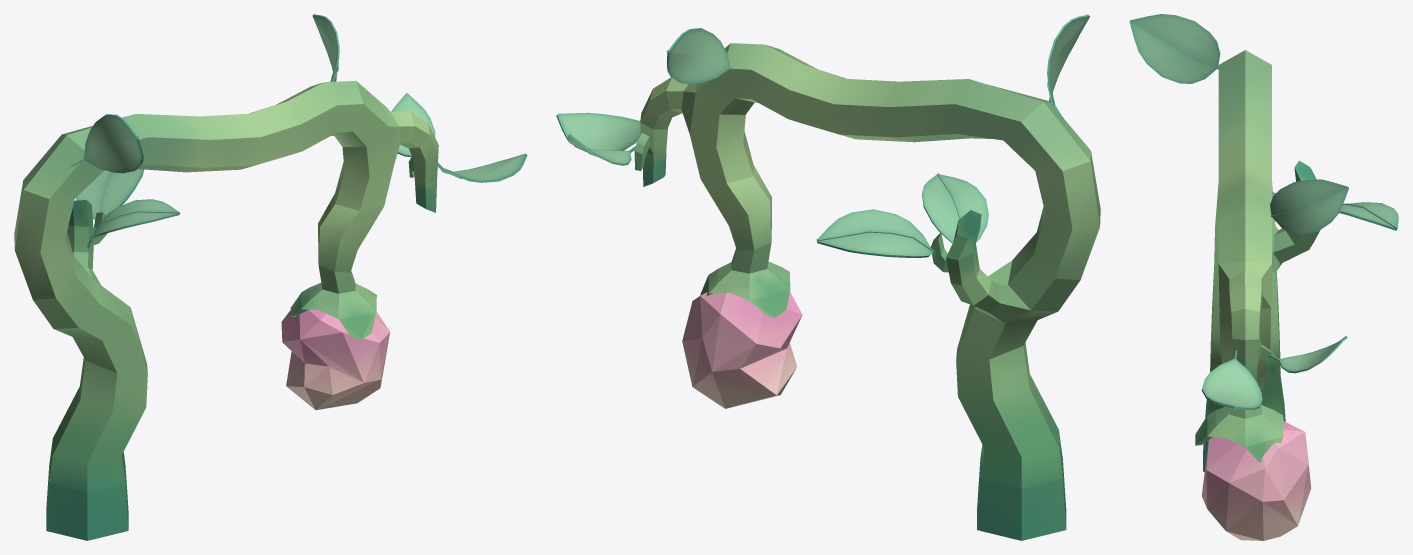
The model's file is plant5.fbx.
3 views of the same model, side by side, from view 1: azimuth 30°, elevation 25°; view 2: azimuth 150°, elevation 25°; view 3: azimuth 270°, elevation 25° (orthographic). The views are drawn at different scales.
Visible parts, largest first — view 1: pCylinder60, PM3D_Sphere3D1, pPlane310, pPlane306, pPlane307, pPlane308, pPlane311, pPlane309; view 2: pCylinder60, PM3D_Sphere3D1, pPlane306, pPlane307, pPlane311, pPlane308, pPlane310, pPlane309; view 3: pCylinder60, PM3D_Sphere3D1, pPlane310, pPlane311, pPlane308, pPlane306, pPlane309.
Boxes of the visible parts, x1,y1,x2,y2 form: pCylinder60: (14,80,438,540); PM3D_Sphere3D1: (281,309,390,410); pPlane310: (71,114,143,173); pPlane306: (76,169,143,219); pPlane307: (87,199,179,248); pPlane308: (437,153,527,182); pPlane311: (312,14,339,81); pPlane309: (391,93,435,157); pCylinder60: (634,43,1100,540); PM3D_Sphere3D1: (682,292,802,408); pPlane306: (816,209,935,257); pPlane307: (922,173,988,243); pPlane311: (666,28,732,84); pPlane308: (556,112,640,151); pPlane310: (1047,14,1089,118); pPlane309: (567,134,635,165); pCylinder60: (1195,50,1320,471); PM3D_Sphere3D1: (1201,421,1311,540); pPlane310: (1129,14,1220,83); pPlane311: (1270,179,1348,234); pPlane308: (1201,350,1262,409); pPlane306: (1339,202,1398,230); pPlane309: (1268,336,1347,373).
Bounding box in the file's own units: 2.78 × 2.26 × 1.24.
